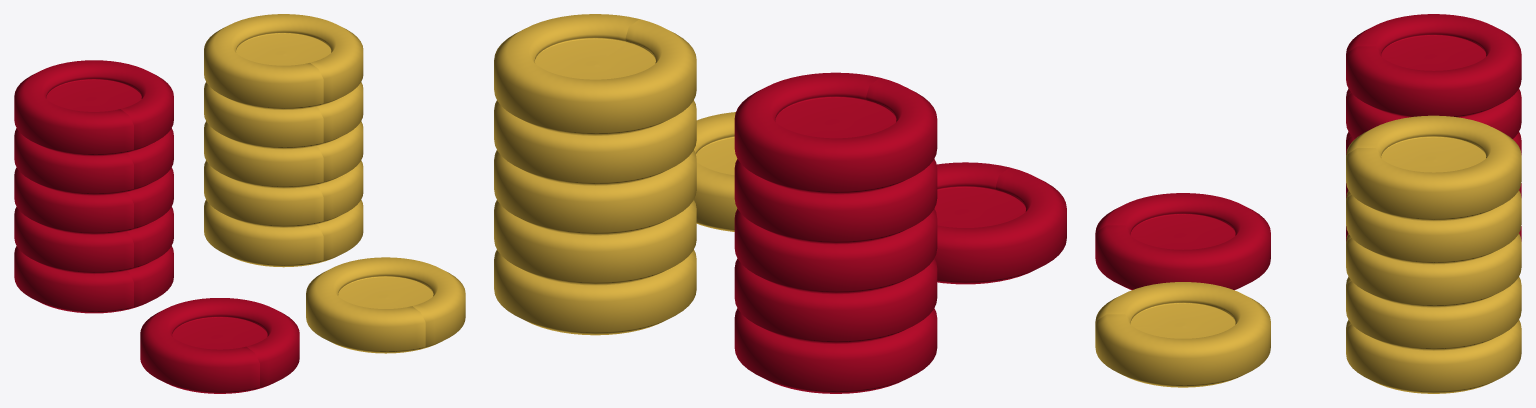
The model's file is checkers_vegasSet.glb.
3 views of the same model, side by side, from view 1: azimuth 30°, elevation 25°; view 2: azimuth 150°, elevation 25°; view 3: azimuth 270°, elevation 25° (orthographic). The views are drawn at different scales.
Visible parts, largest first — view 1: checker_light_4, checker_face_dark, checker_dark_4, checker_face_light, checker_light_0, checker_light_2, checker_dark_2, checker_dark_1, checker_light_3, checker_dark_0, checker_dark_3, checker_light_1; view 2: checker_light_4, checker_dark_4, checker_face_light, checker_light_3, checker_light_2, checker_light_0, checker_light_1, checker_dark_1, checker_dark_2, checker_dark_0, checker_dark_3, checker_face_dark; view 3: checker_dark_4, checker_face_dark, checker_light_4, checker_face_light, checker_dark_1, checker_dark_2, checker_dark_0, checker_dark_3, checker_light_3.
Boxes of the visible parts, x1,y1,x2,y2 form: checker_light_4: [14, 60, 173, 156]; checker_face_dark: [306, 257, 465, 353]; checker_dark_4: [204, 14, 363, 109]; checker_face_light: [140, 298, 299, 393]; checker_light_0: [14, 246, 173, 313]; checker_light_2: [14, 167, 173, 234]; checker_dark_2: [204, 121, 363, 188]; checker_dark_1: [204, 160, 363, 227]; checker_light_3: [14, 128, 173, 195]; checker_dark_0: [204, 200, 363, 267]; checker_dark_3: [204, 82, 363, 149]; checker_light_1: [14, 207, 173, 274]; checker_light_4: [734, 72, 937, 194]; checker_dark_4: [494, 14, 696, 135]; checker_face_light: [934, 162, 1066, 284]; checker_light_3: [734, 159, 937, 244]; checker_light_2: [734, 208, 937, 294]; checker_light_0: [734, 308, 937, 393]; checker_light_1: [734, 258, 937, 344]; checker_dark_1: [494, 200, 696, 285]; checker_dark_2: [494, 150, 696, 235]; checker_dark_0: [494, 249, 696, 335]; checker_dark_3: [494, 100, 696, 185]; checker_face_dark: [694, 112, 737, 231]; checker_dark_4: [1346, 115, 1521, 221]; checker_face_dark: [1095, 282, 1270, 387]; checker_light_4: [1346, 14, 1521, 117]; checker_face_light: [1095, 193, 1270, 290]; checker_dark_1: [1346, 276, 1521, 350]; checker_dark_2: [1346, 233, 1521, 307]; checker_dark_0: [1346, 320, 1521, 393]; checker_dark_3: [1346, 190, 1521, 264]; checker_light_3: [1346, 88, 1521, 138].
Size of the model in its own units: 0.083 by 0.047 by 0.085.
